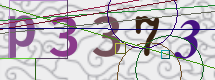3: (49, 15, 78, 58), (92, 16, 121, 58), (174, 19, 201, 60)
7: (135, 15, 160, 57)
p: (7, 15, 36, 59)
